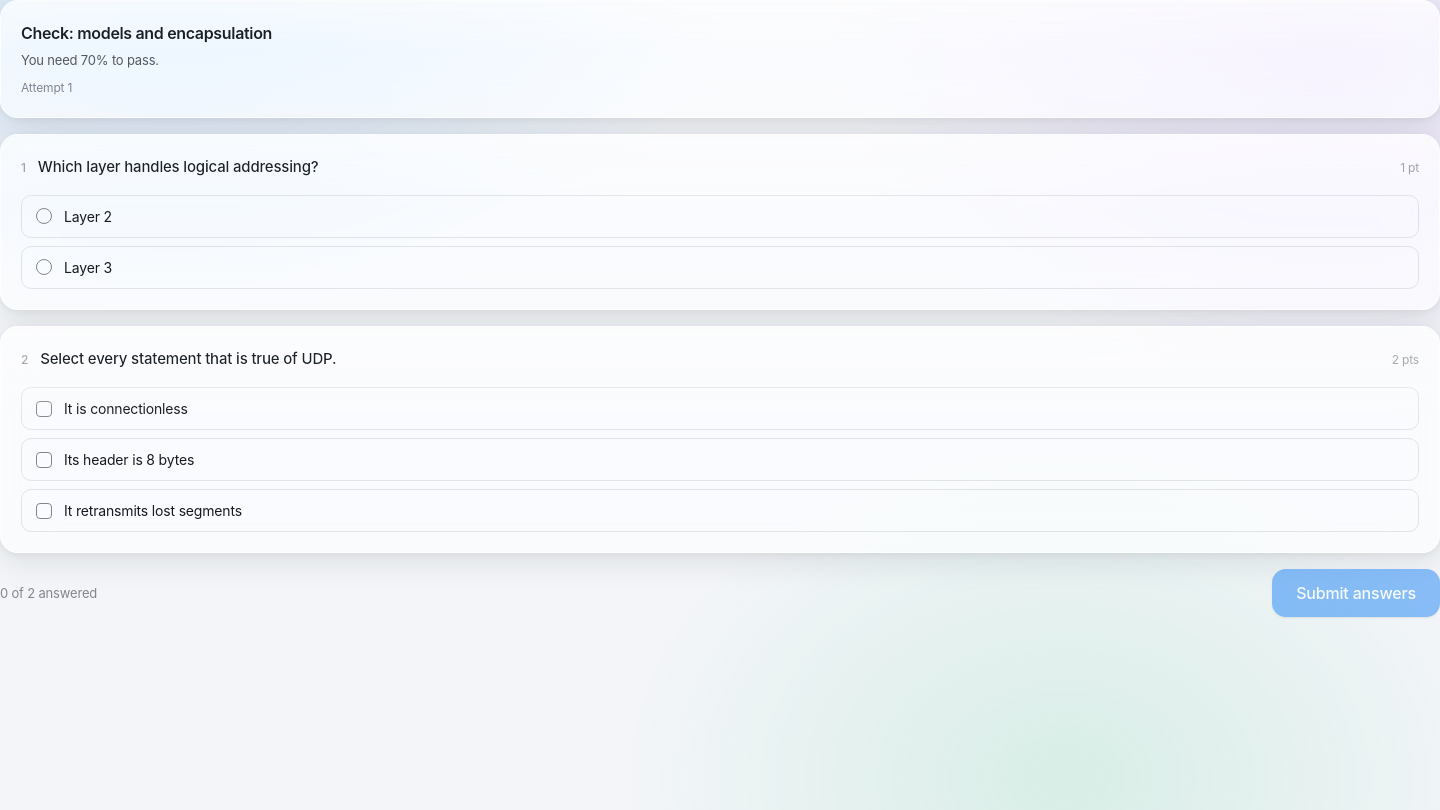
Scenario: QuizRunner › shows the score, XP and level-up after grading
Click the radio button labelled "Layer 3" at (88,267), box [21, 246, 1419, 289]
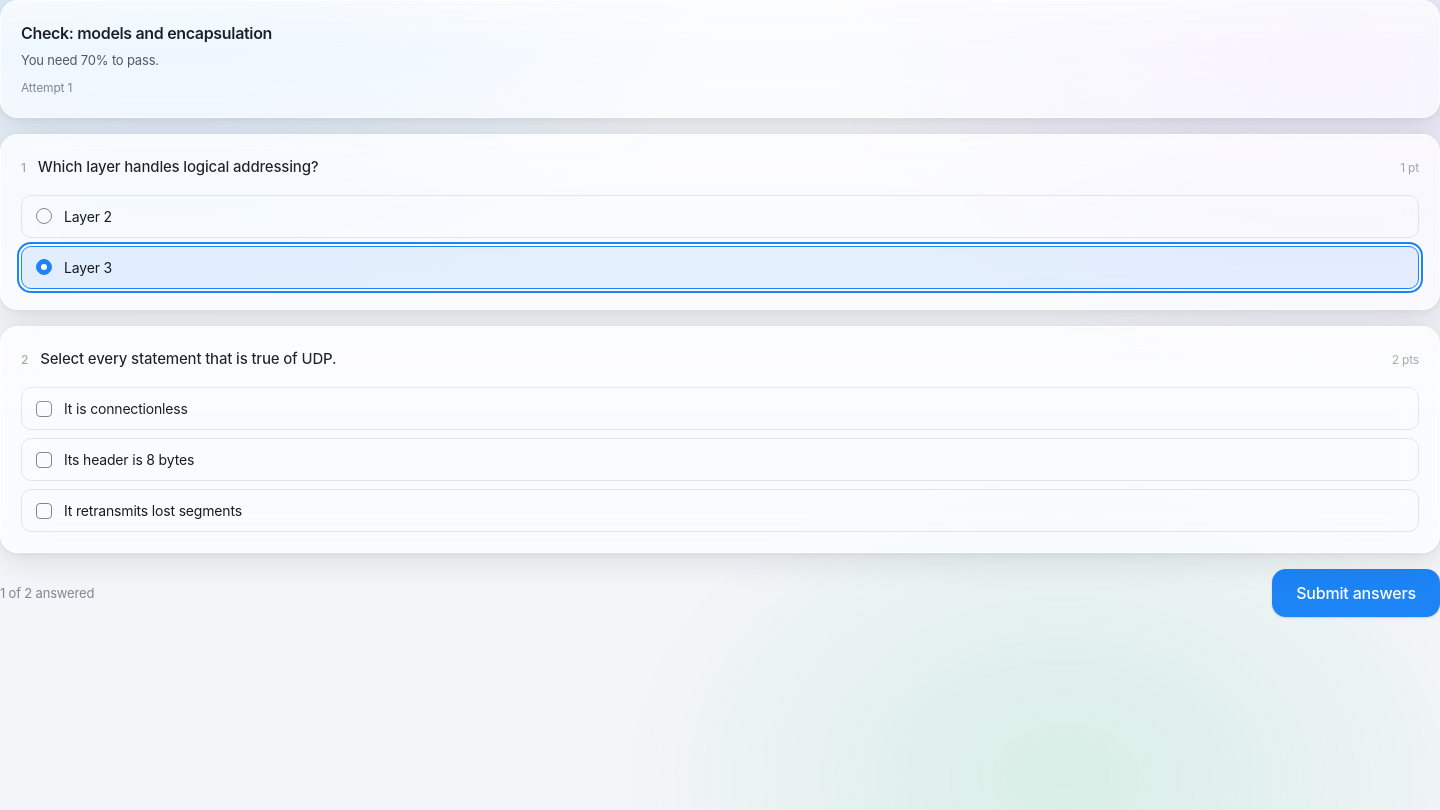
Click the button "Submit answers" at (1356,593), box [1272, 569, 1439, 617]
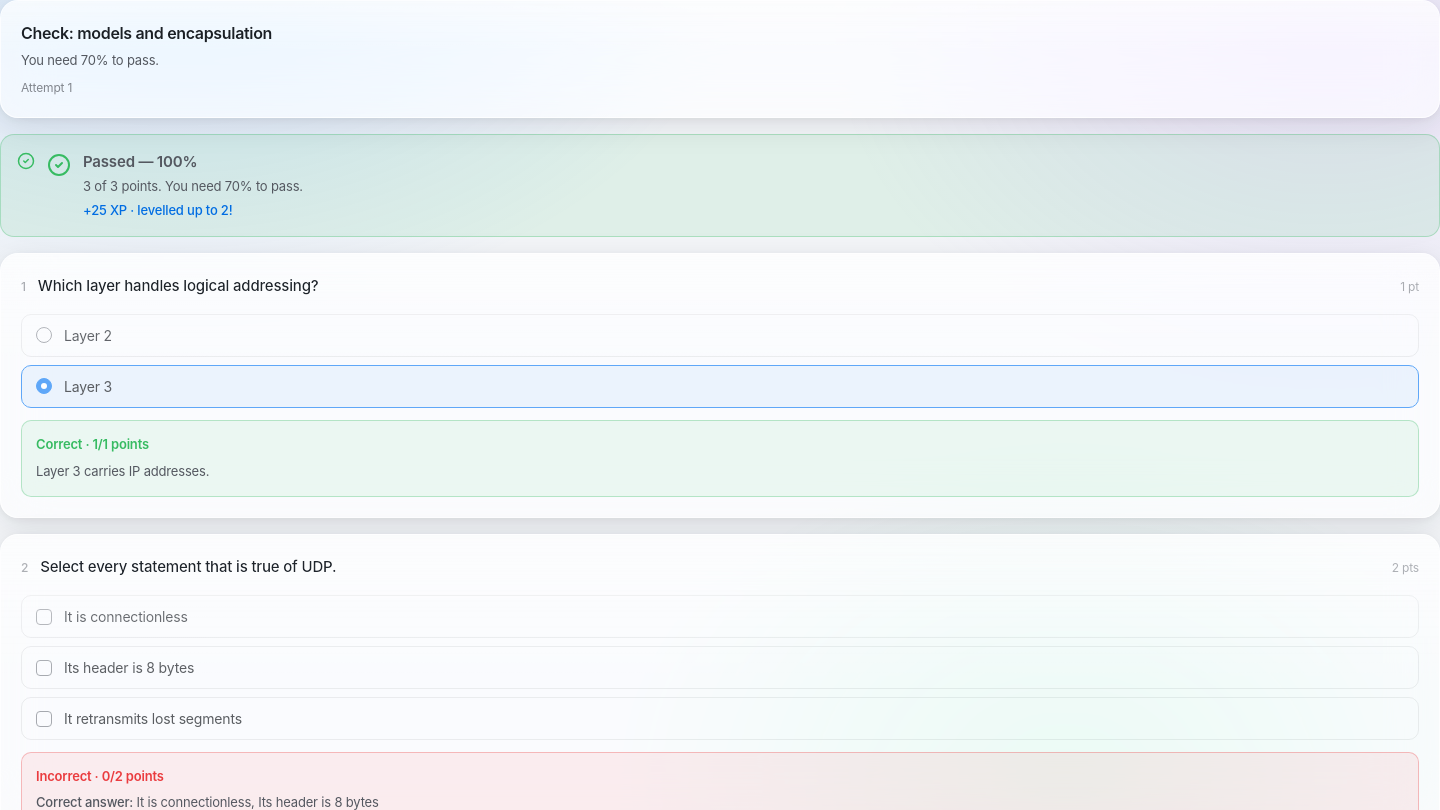
Result: the text "Passed — 100%" is shown at [83, 152, 197, 170]
Result: the text "+25 XP · levelled up to 2!" is shown at [83, 202, 232, 218]
